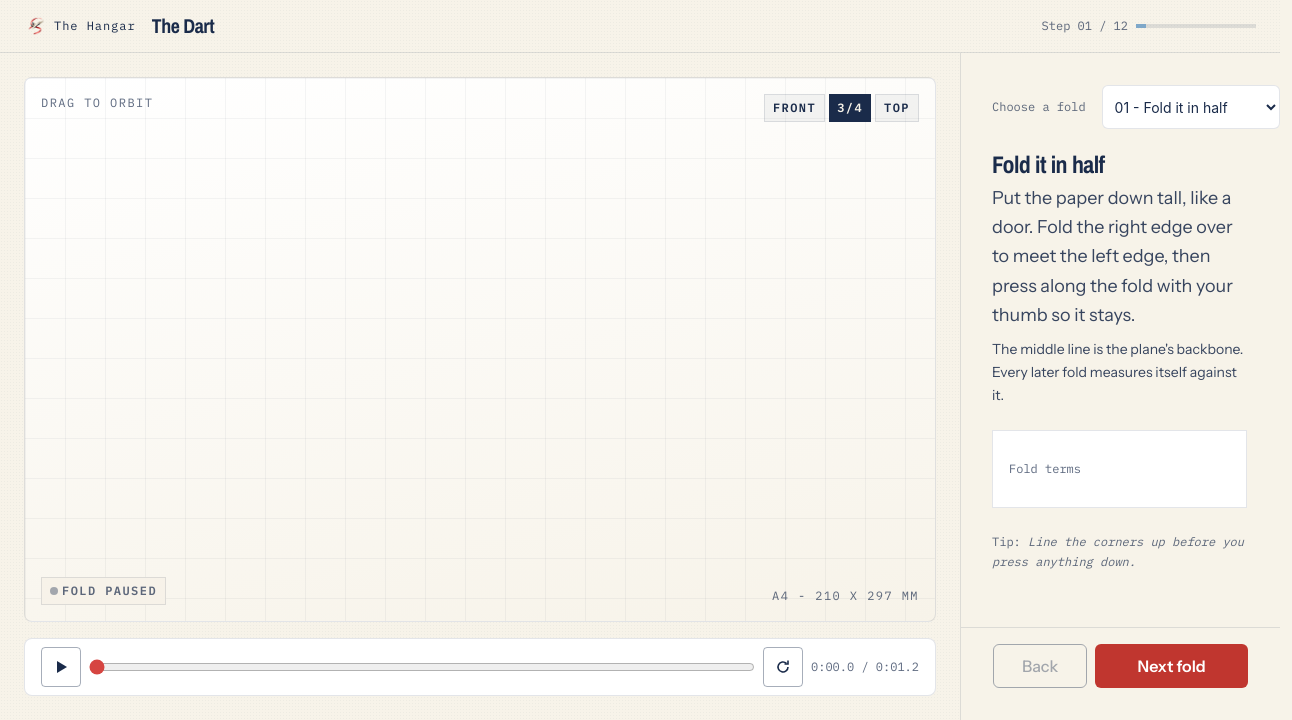
Test: tutorial tips › removes the footer when a selected fold has no explicit tip
Check: the text "Line the corners up before you press anything down." is shown, box [992,534,1244,569]
Select "02 - Open it back up" in the dropdown labelled "Choose a fold" at (1191, 107), box [1102,85,1280,129]
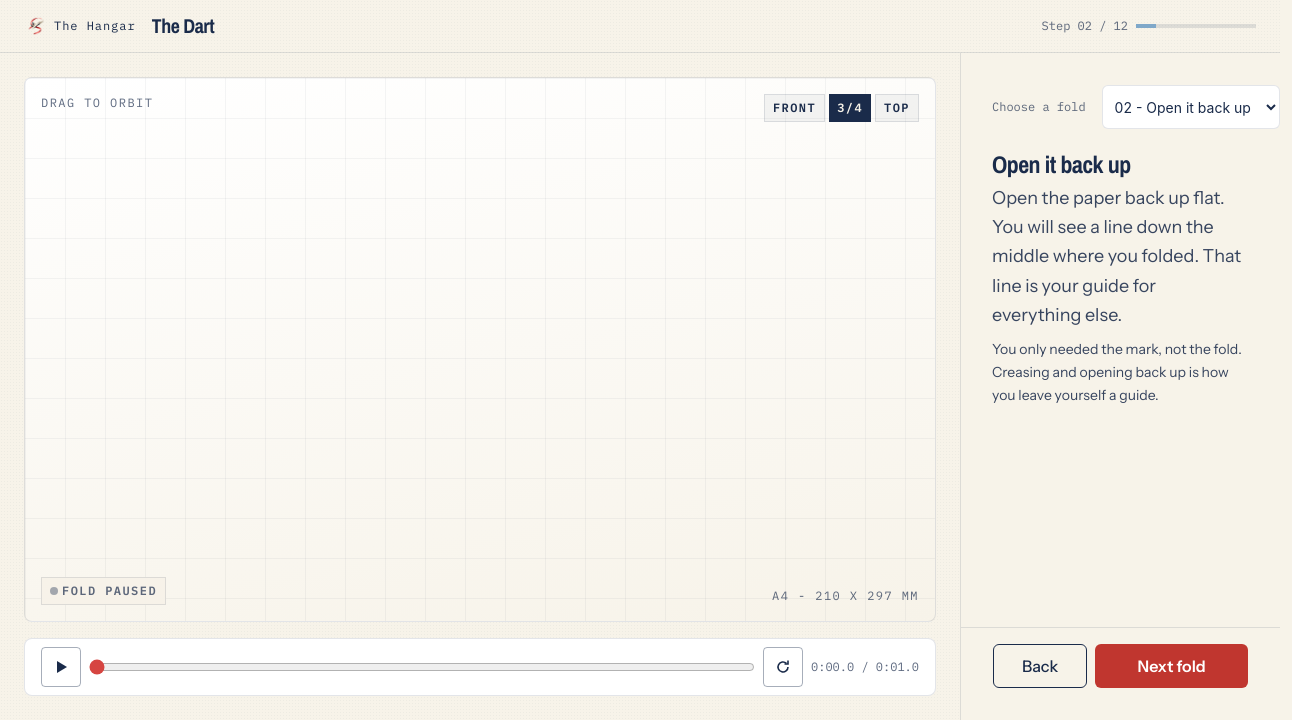
Check: the text "Line the corners up before you press anything down." is gone
